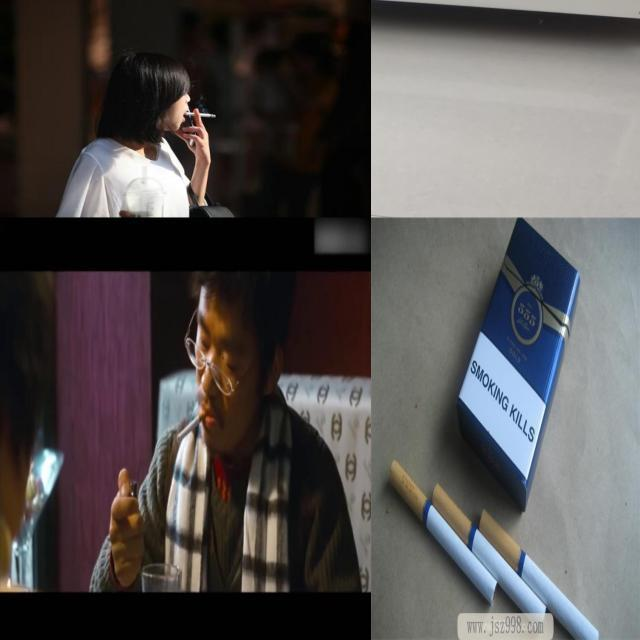cigarette: (432, 484, 546, 626), (478, 508, 600, 640), (390, 458, 498, 606), (184, 110, 220, 205), (176, 410, 207, 444)
